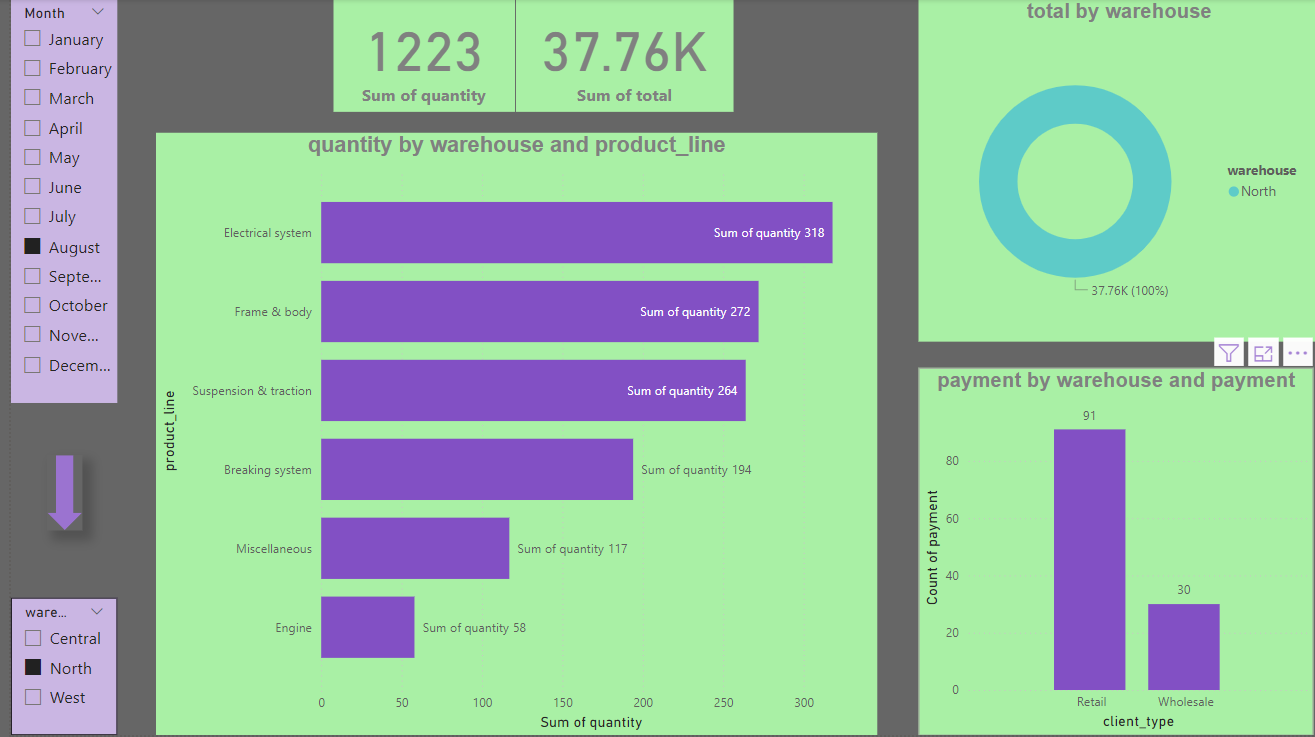

Layout of this report page (visuals, bound fields, positions):
{"tool":"powerbi","page":{"name":"Page 2","canvas":[1280,720],"ordinal":1},"visuals":[{"type":"card","fields":{"Values":["Sum(Sheet1.total)"]},"box":[494,0,212.8,110.1],"z":0},{"type":"card","fields":{"Values":["Sum(Sheet1.quantity)"]},"box":[315.5,0,177.3,110.1],"z":1000},{"type":"slicer","fields":{"Values":["Sheet1.date.Variation.Date Hierarchy.Month"]},"box":[0,0,103.9,395.3],"z":2000},{"type":"donutChart","title":"total by warehouse","fields":{"Category":["Sheet1.warehouse"],"Y":["Sum(Sheet1.total)"]},"box":[887.3,0,393,335],"z":3000},{"type":"clusteredBarChart","title":"quantity by warehouse and product_line","fields":{"Y":["Sum(Sheet1.quantity)"],"Category":["Sheet1.product_line"]},"box":[141.8,130.8,705.6,589.4],"z":4000},{"type":"clusteredColumnChart","title":"payment by warehouse and payment","fields":{"Y":["CountNonNull(Sheet1.payment)"],"Category":["Sheet1.client_type"]},"box":[887.3,360.7,386.7,359.2],"z":5000},{"type":"shape","box":[35.5,446.3,34.2,73.4],"z":6000},{"type":"slicer","fields":{"Values":["Sheet1.warehouse"]},"box":[0,585.7,103.9,134.5],"z":7000}]}

Visuals, with their boxes in screenshot pixels (x1, y1, x2, y2), scaled from the page's 1280x720 canvas onto the 1315x737 screenshot:
card - Sum(Sheet1.total): [x1=508, y1=0, x2=726, y2=113]
card - Sum(Sheet1.quantity): [x1=324, y1=0, x2=506, y2=113]
slicer - Sheet1.date.Variation.Date Hierarchy.Month: [x1=0, y1=0, x2=107, y2=405]
"total by warehouse" donutChart: [x1=912, y1=0, x2=1314, y2=343]
"quantity by warehouse and product_line" clusteredBarChart: [x1=146, y1=134, x2=871, y2=736]
"payment by warehouse and payment" clusteredColumnChart: [x1=912, y1=369, x2=1309, y2=736]
shape: [x1=36, y1=457, x2=72, y2=532]
slicer - Sheet1.warehouse: [x1=0, y1=600, x2=107, y2=736]
